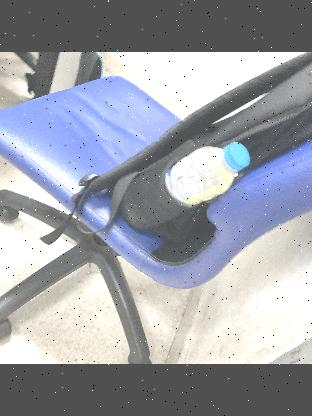Plastic Bottle: (161, 140, 252, 212)
